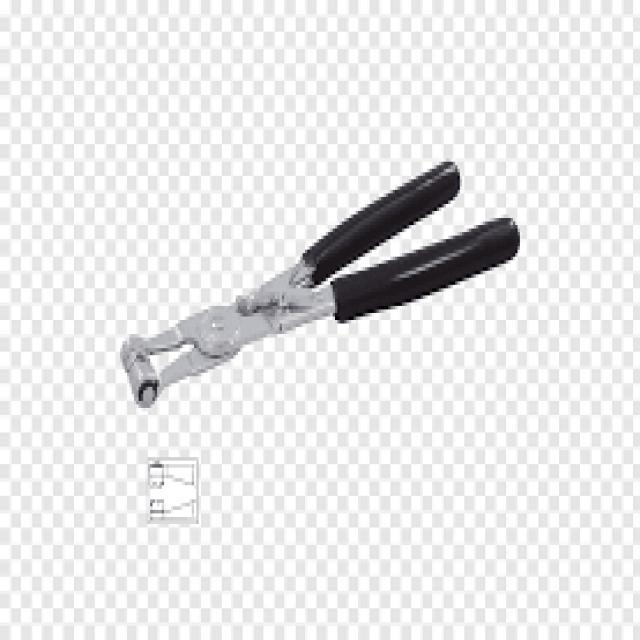pliers: (110, 140, 532, 420)
